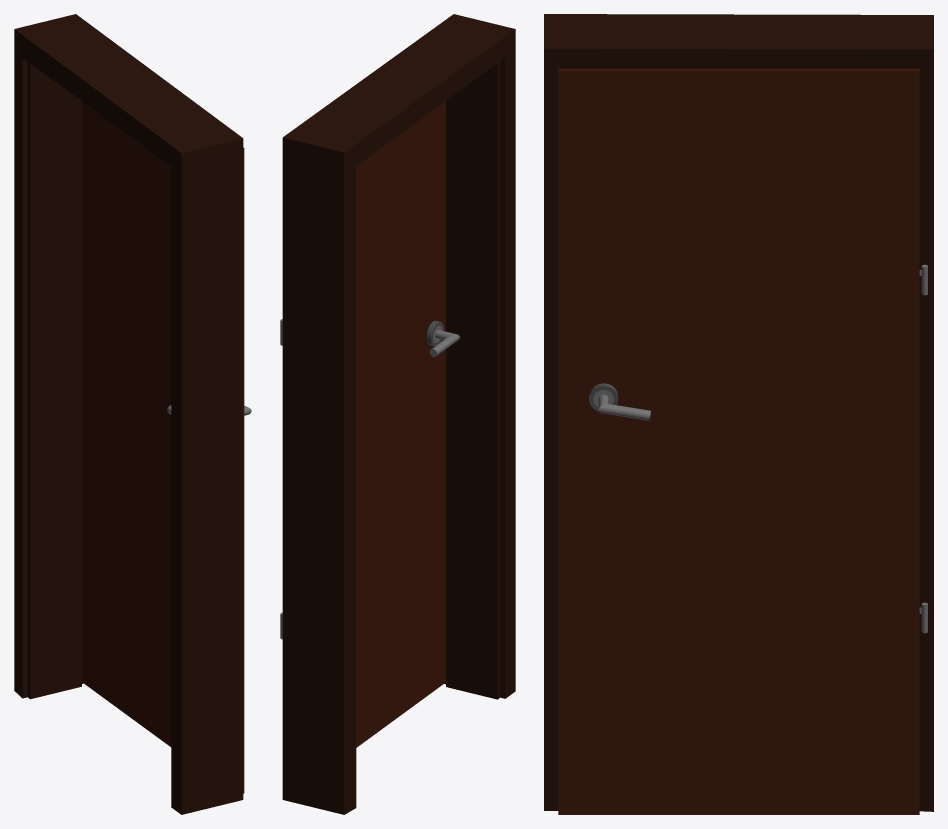
Rendered from door26.obj.
3 views of the same model, side by side, from view 1: azimuth 30°, elevation 25°; view 2: azimuth 150°, elevation 25°; view 3: azimuth 270°, elevation 25° (orthographic). The views are drawn at different scales.
Visible parts, largest first — view 1: Cylinder.005, Cylinder.001; view 2: Cylinder.005, Cylinder.001; view 3: Cylinder.001, Cylinder.005.
Part boxes in pixels (<box>): Cylinder.005: <box>14,14,243,814</box>; Cylinder.001: <box>82,101,244,793</box>; Cylinder.005: <box>280,14,515,814</box>; Cylinder.001: <box>280,101,445,747</box>; Cylinder.001: <box>558,68,927,814</box>; Cylinder.005: <box>544,14,933,811</box>.
Size of the model in its own units: 0.3039 by 2.05 by 0.95.
